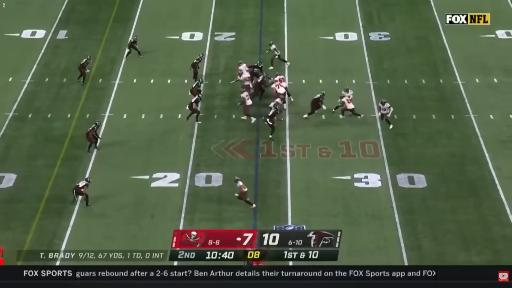Helmet: (235, 175, 241, 183), (198, 93, 204, 101), (380, 99, 387, 105), (199, 78, 205, 85), (257, 61, 263, 67), (96, 120, 102, 126), (134, 35, 139, 42), (239, 71, 244, 77), (238, 61, 244, 66), (86, 178, 92, 183), (87, 55, 92, 61), (344, 87, 349, 92), (279, 95, 284, 100), (240, 89, 245, 94), (273, 79, 277, 85), (340, 94, 345, 98), (322, 91, 327, 95), (274, 106, 279, 110), (263, 72, 267, 77), (276, 72, 280, 76), (199, 55, 204, 58), (269, 42, 272, 46)
Jersey: (240, 91, 253, 106), (340, 97, 355, 109), (189, 96, 201, 110), (266, 110, 278, 124), (239, 71, 250, 85), (273, 82, 285, 94), (312, 94, 324, 106), (191, 56, 202, 69), (269, 99, 282, 110), (248, 64, 263, 73), (275, 76, 287, 87), (379, 103, 390, 114), (76, 181, 89, 190), (88, 125, 98, 136), (257, 76, 267, 87), (270, 45, 280, 55), (237, 181, 247, 191), (342, 90, 353, 99), (238, 64, 248, 73), (80, 59, 90, 67), (129, 38, 137, 46), (192, 82, 201, 89)
Player: (235, 177, 255, 208), (303, 92, 326, 118), (267, 42, 289, 69), (274, 73, 293, 101), (333, 87, 353, 113), (240, 91, 256, 123), (74, 178, 91, 207), (340, 96, 363, 117), (86, 121, 101, 153), (264, 109, 279, 141), (190, 53, 205, 82), (187, 95, 202, 123), (77, 56, 91, 85), (272, 82, 287, 109), (379, 100, 393, 128), (254, 73, 268, 100), (125, 36, 142, 58), (237, 70, 252, 92), (248, 61, 263, 79), (190, 79, 204, 96), (269, 99, 282, 110), (342, 87, 353, 99), (238, 61, 248, 73)
